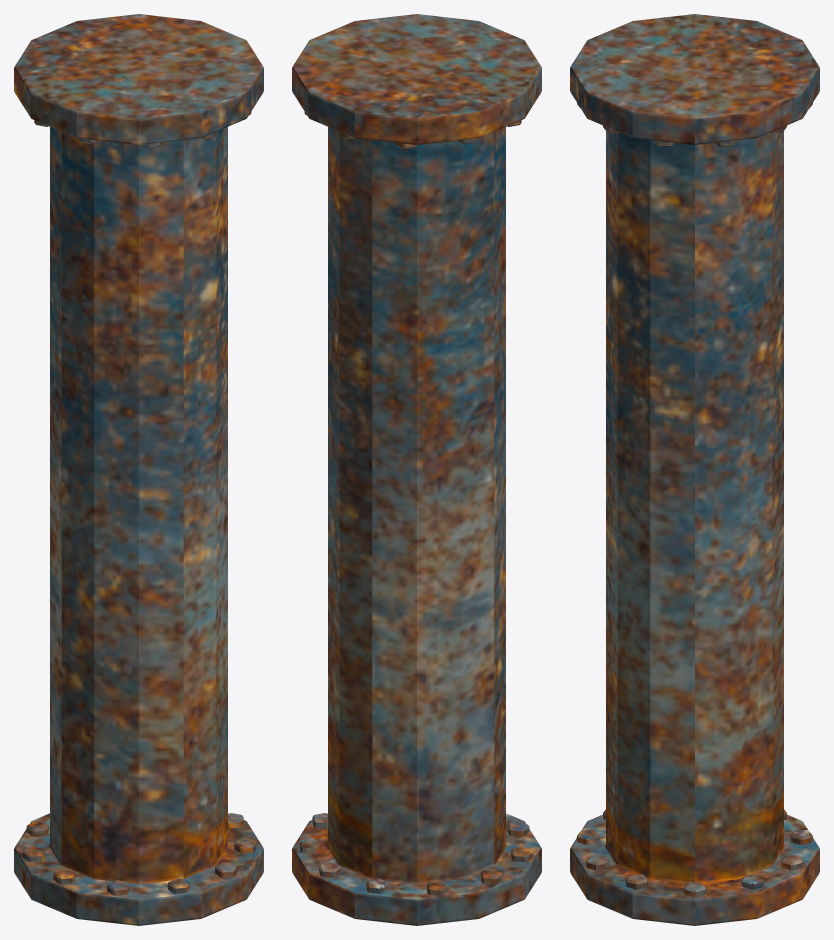
The model's file is pipe.03.fbx.
The picture shows the model from 3 angles, left to right: view 1: azimuth 30°, elevation 25°; view 2: azimuth 150°, elevation 25°; view 3: azimuth 270°, elevation 25°; orthographic projection.
Visible parts, largest first — view 1: Pipe.03; view 2: Pipe.03; view 3: Pipe.03.
Part boxes in pixels (box(x1,y1,x2,y2)): Pipe.03: box(14, 14, 263, 925); Pipe.03: box(292, 14, 541, 925); Pipe.03: box(570, 14, 819, 925).
Bounding box in the file's own units: 55.99 × 200 × 55.99.
